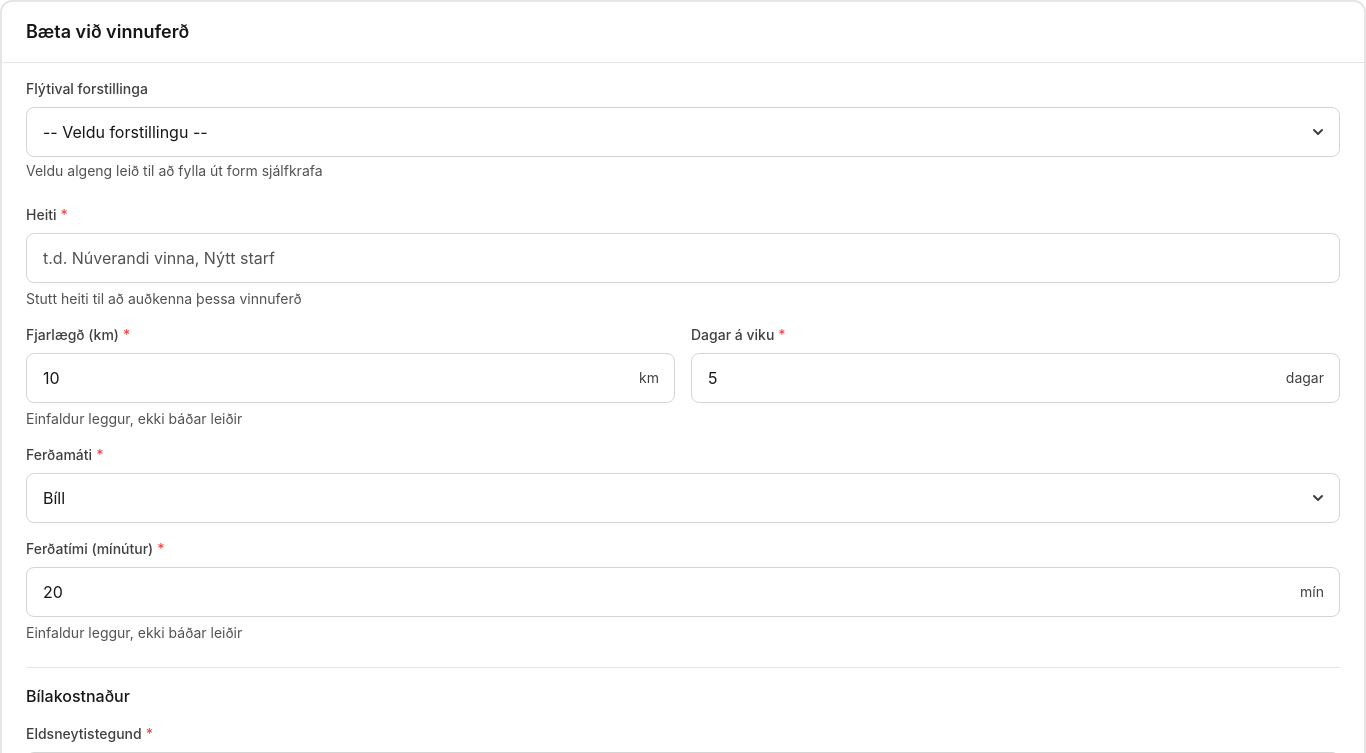
Test case: CommuteForm › Conditional Fields › should show informational message when remote is selected
Select "Fjarvinnu" in the dropdown labelled "Ferðamáti*" at (683, 498), box [26,473,1340,523]
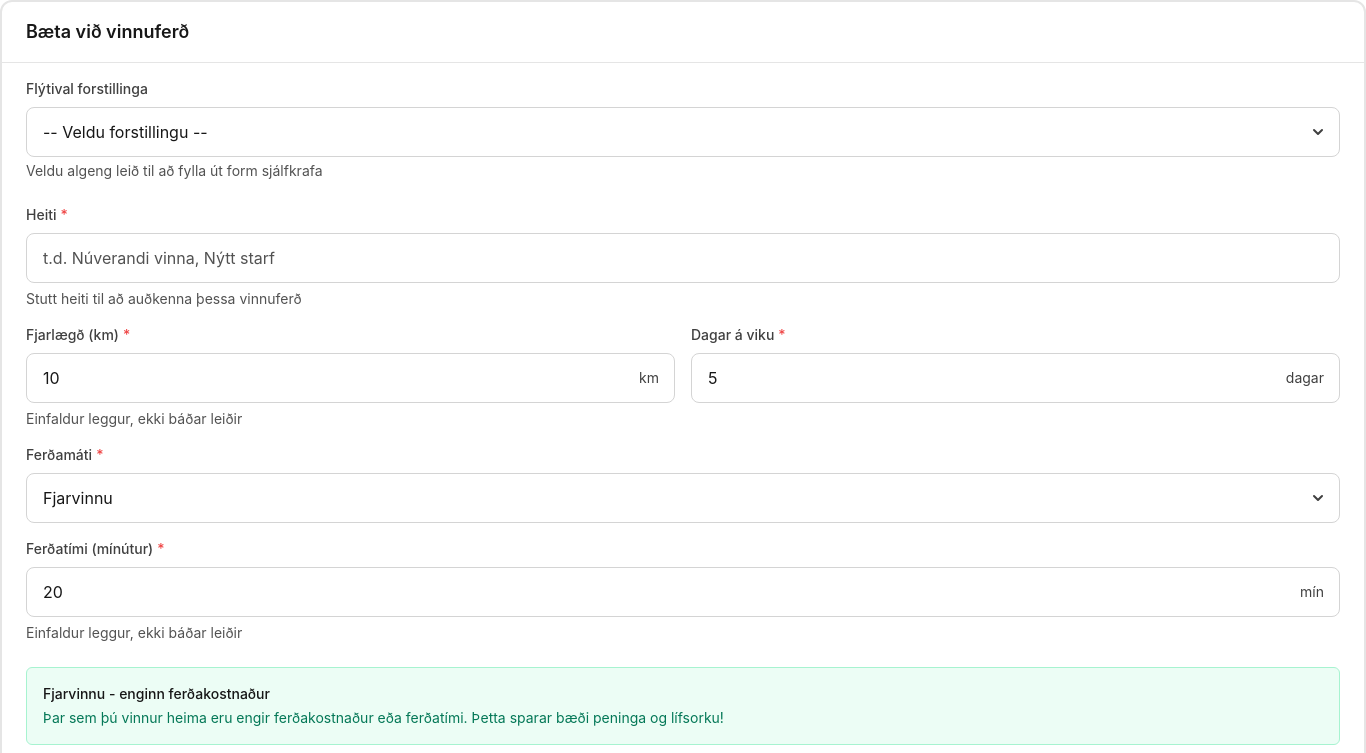
Expected: the text "Fjarvinnu - enginn ferðakostnaður" is shown, [43,685,270,702]
Expected: the text "Þetta sparar bæði peninga og lífsorku!" is shown, [43,709,724,726]
